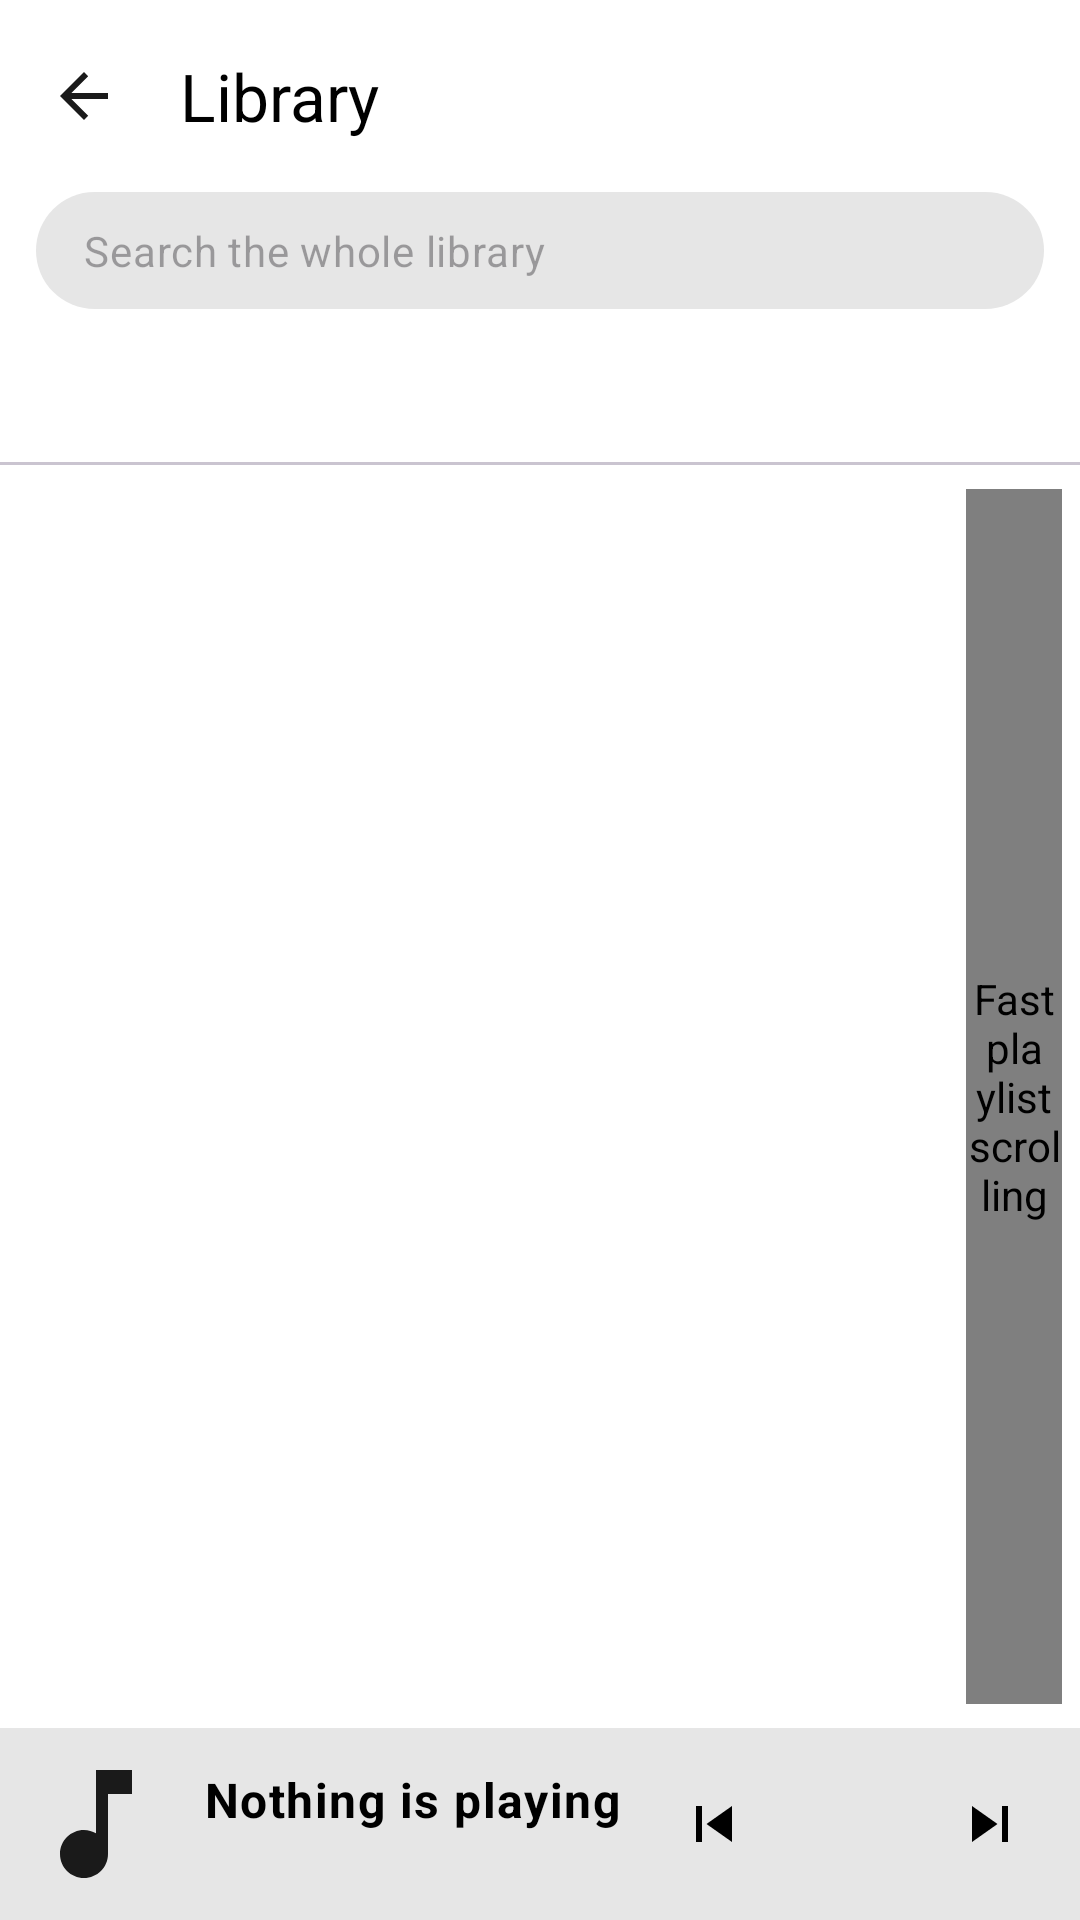

Icons on this 1080×1920 Android screen, each with the point to tap as [x,y]:
Cover art: [96,1824]
Next: [990,1824]
Previous: [714,1824]
